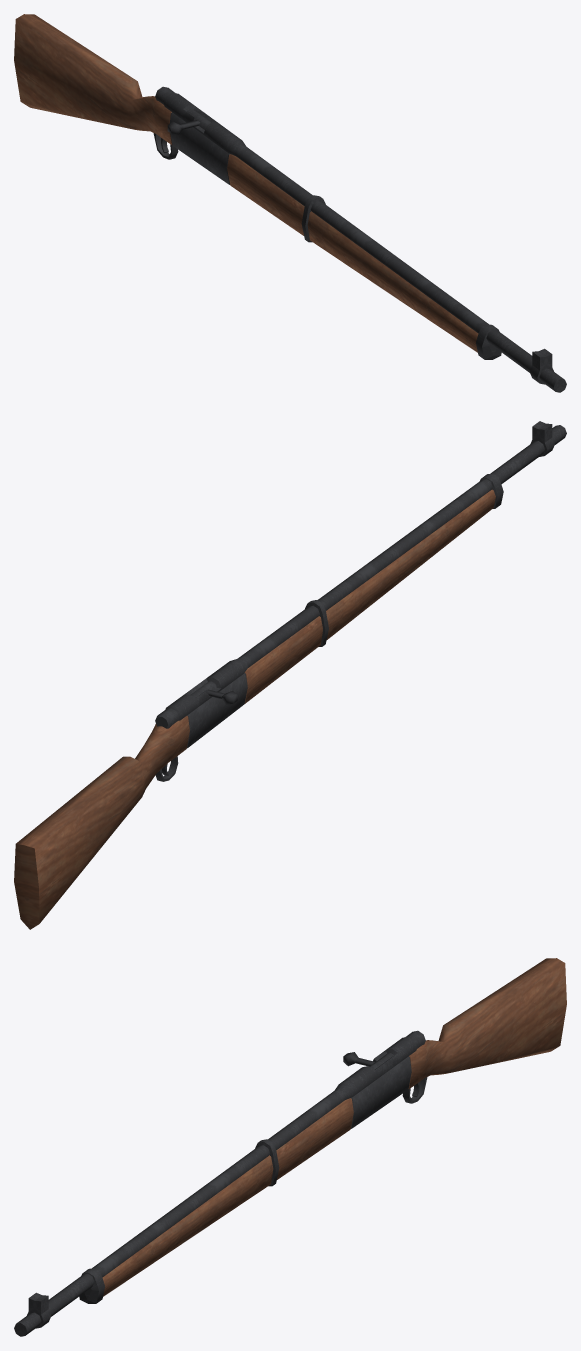
Rendered from 1210勒贝尔1886.FBX.
3 views of the same model, one above another, from view 1: azimuth 30°, elevation 25°; view 2: azimuth 150°, elevation 25°; view 3: azimuth 330°, elevation 25° (orthographic).
Visible parts, largest first — view 1: 1210_Lebel1886; view 2: 1210_Lebel1886; view 3: 1210_Lebel1886.
Boxes of the visible parts, box(x1,y1,x2,y2) form: 1210_Lebel1886: box(14, 14, 566, 392); 1210_Lebel1886: box(14, 421, 566, 929); 1210_Lebel1886: box(14, 958, 566, 1336).
Size of the model in its own units: 6.17 by 16.87 by 126.
Materials: 1 (1 with a texture image).
